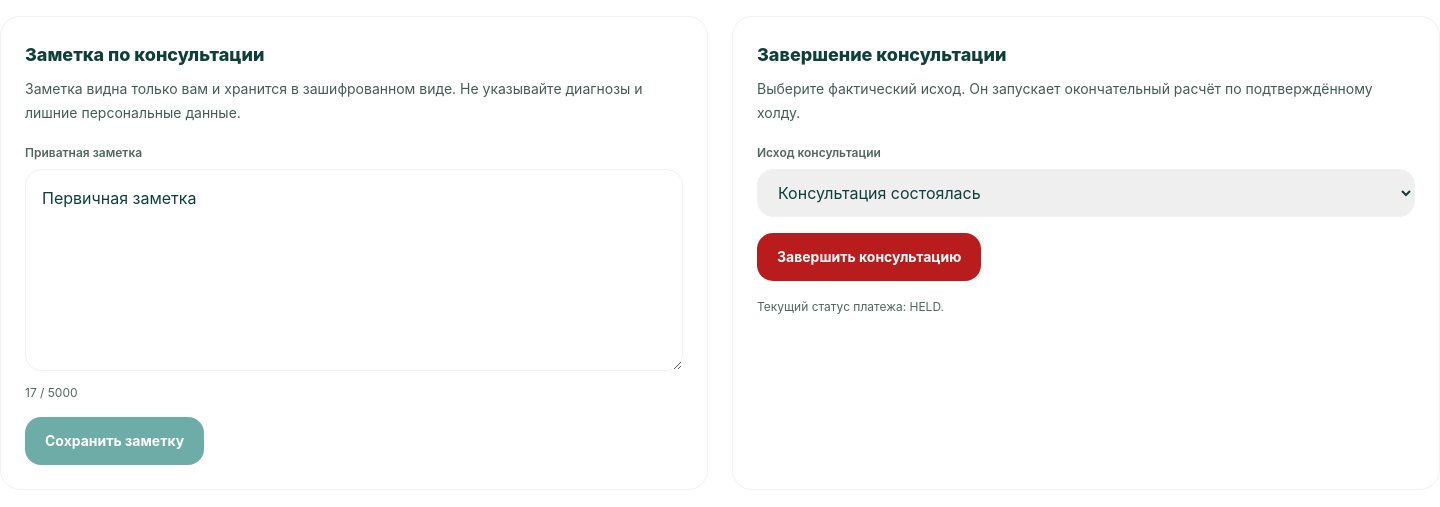
ExpertSessionActions › не затирает правки, внесённые во время сохранения предыдущей версии
Step 1. Replace the text in the text box labelled "Приватная заметка" with "Первая версия" → x=354, y=270, box [25,169,683,371]
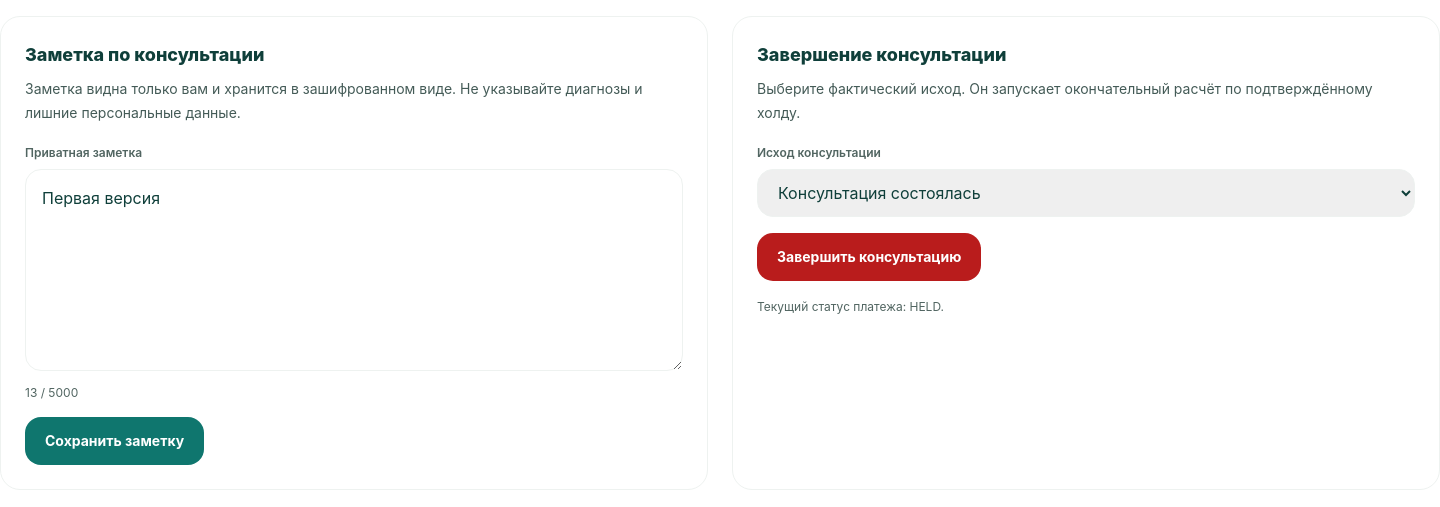
Step 2. Click the button "Сохранить заметку" → x=115, y=441, box [25,417,204,465]
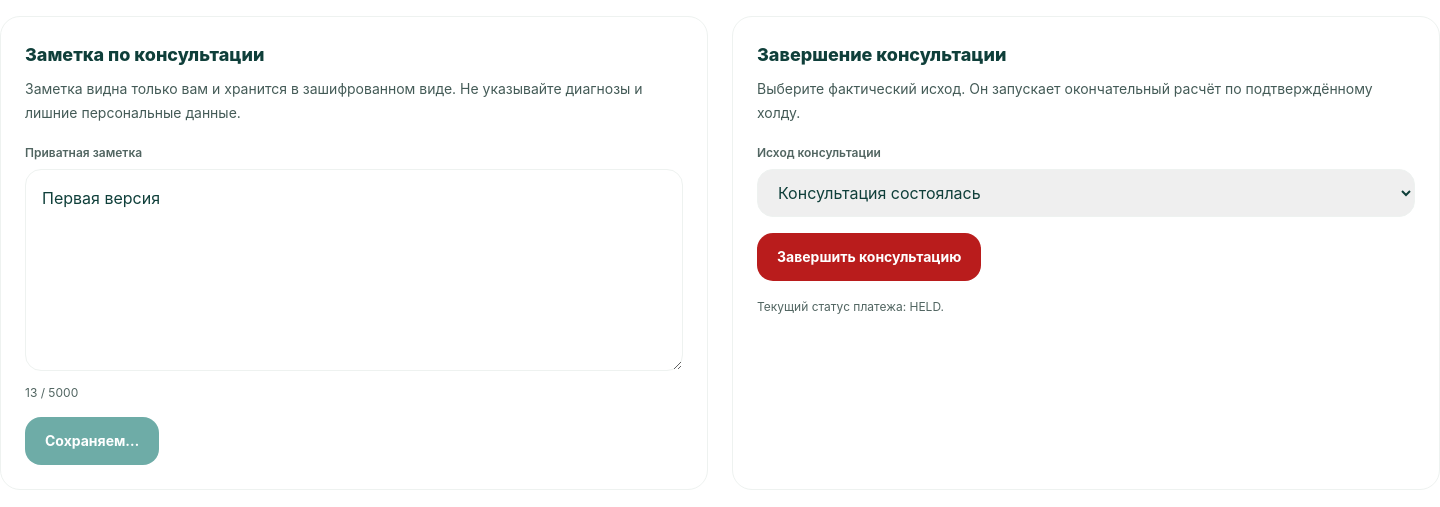
Step 3. Replace the text in the text box labelled "Приватная заметка" with "Первая версия и новое наблюдение" → x=354, y=270, box [25,169,683,371]
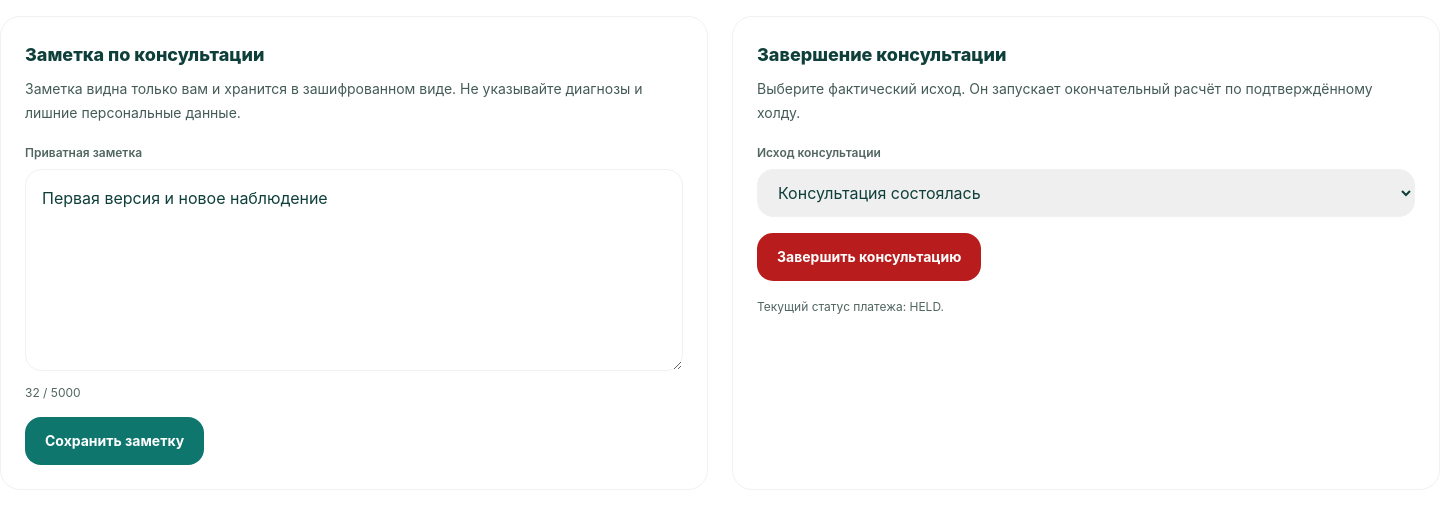
Expected: the button "Сохраняем…" is gone
Expected: the button "Сохранить заметку" is enabled, [25,417,204,465]
